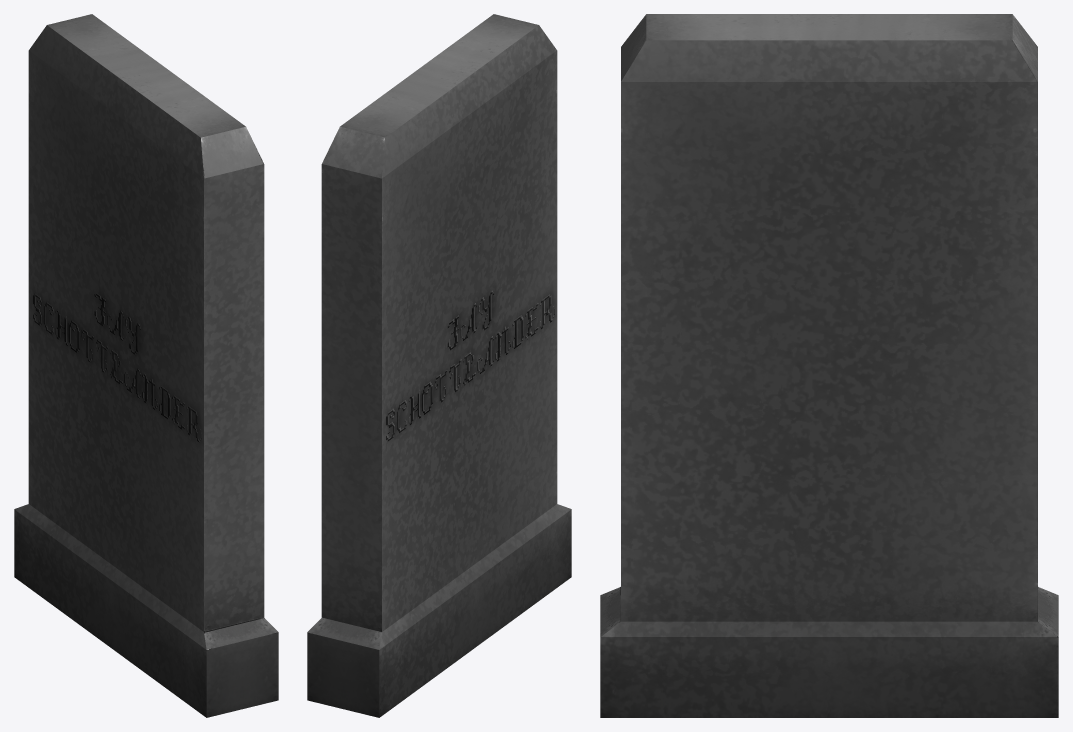
File: Gravestone.fbx
3 renders of one model, left to right at view 1: azimuth 30°, elevation 25°; view 2: azimuth 150°, elevation 25°; view 3: azimuth 270°, elevation 25°, orthographic. The views are drawn at different scales.
Parts seen in each view (by area): view 1: Cube; view 2: Cube; view 3: Cube.
Boxes of the visible parts, bbox=[...] form: Cube: bbox=[14, 14, 278, 717]; Cube: bbox=[307, 14, 571, 717]; Cube: bbox=[600, 14, 1058, 717].
Bounding box in the file's own units: 0.1207 × 0.8992 × 0.5573.
